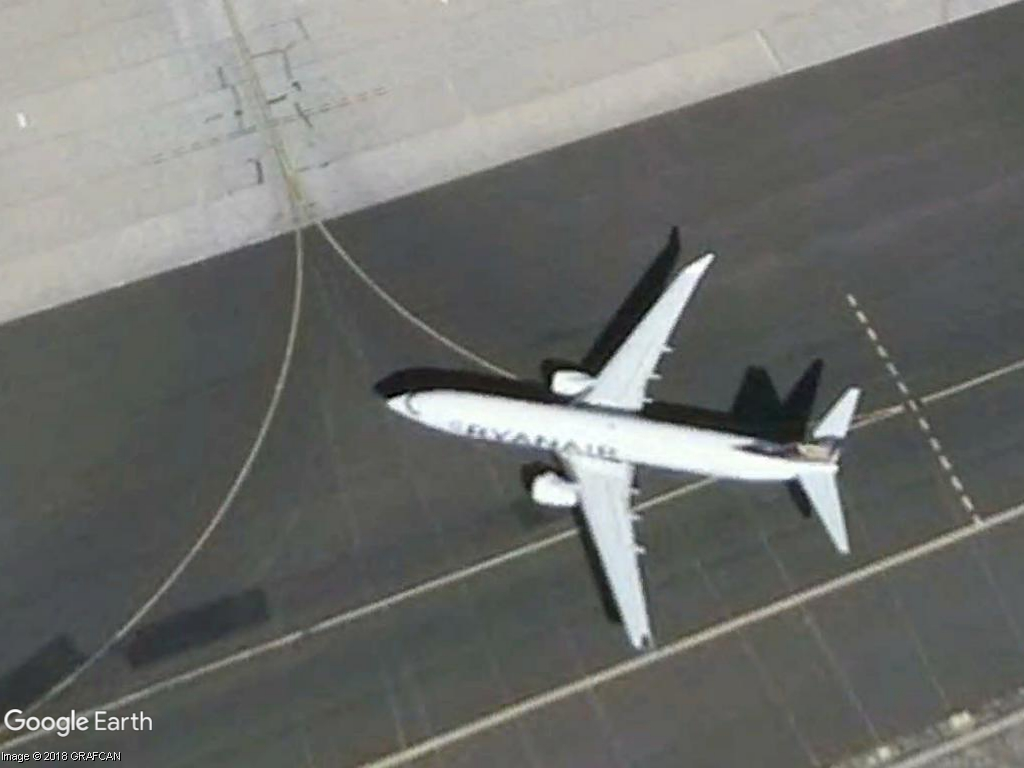airliner: (370, 231, 884, 666)
